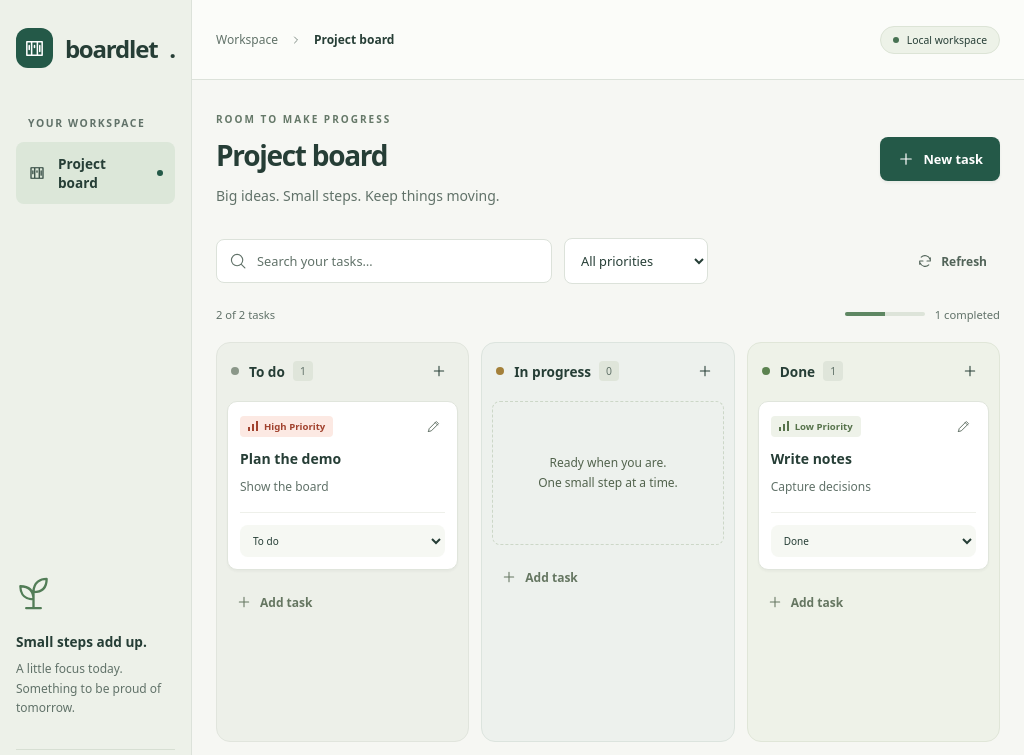
Boardlet user journeys › returns focus to New task when saving an edit moves the original button away
Expected: the heading "Plan the demo" is shown, x1=240 y1=449 x2=341 y2=468
Click the button named "Edit Plan the demo".
click(433, 426)  # box x1=417 y1=410 x2=449 y2=442
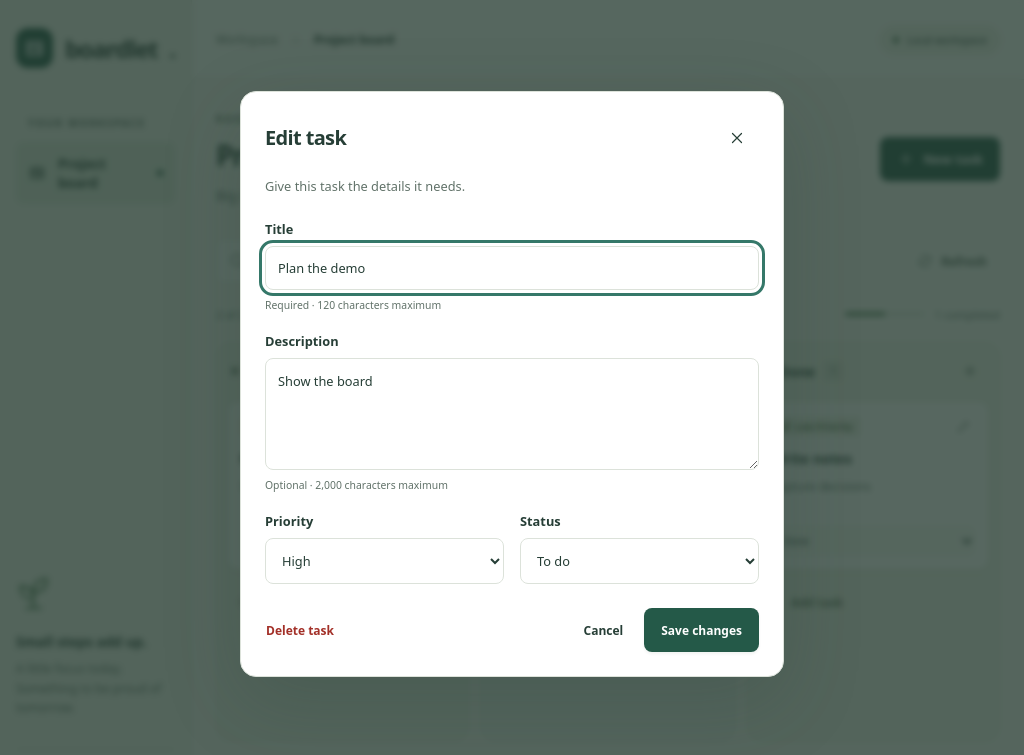
Select "Done" in the dropdown labelled "Status" at coordinates (640, 561), box x1=520 y1=538 x2=759 y2=584
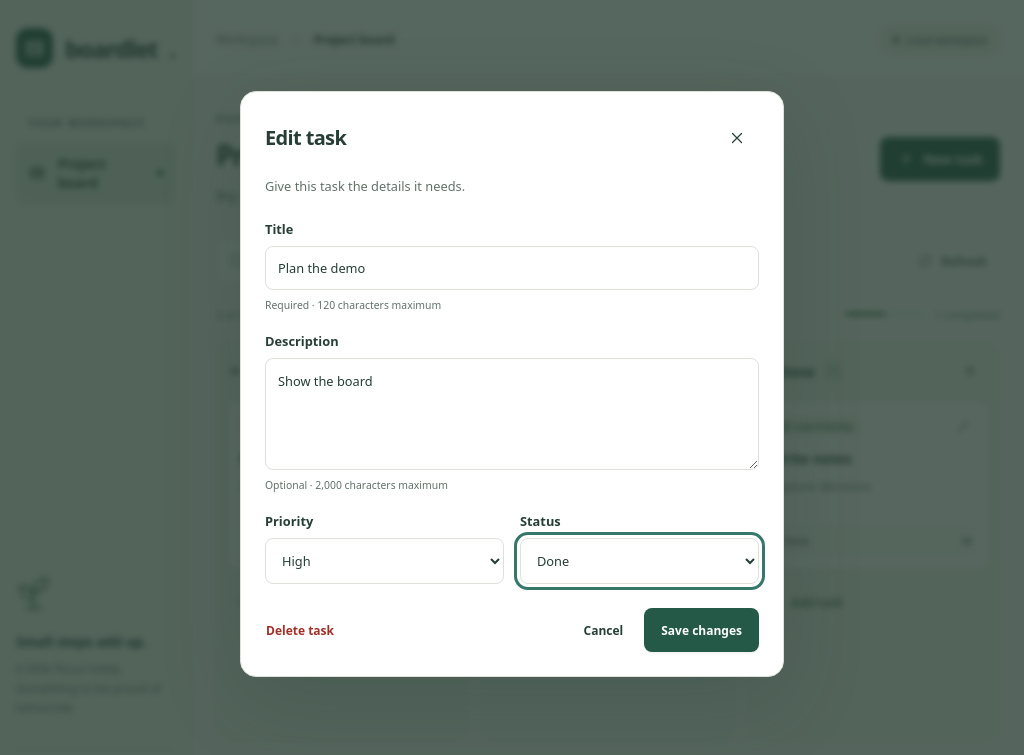
Click the button "Save changes".
click(702, 630)  # box x1=644 y1=608 x2=759 y2=652
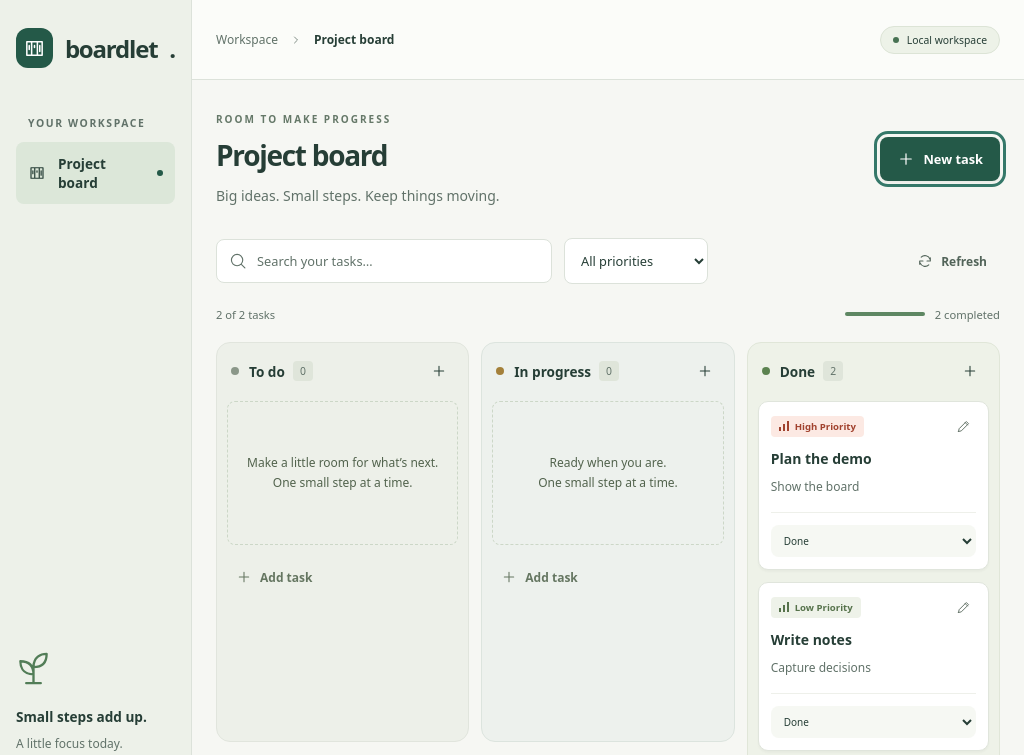
Expected: the heading "Plan the demo" is shown, x1=771 y1=449 x2=872 y2=468
Now the dialog is gone
